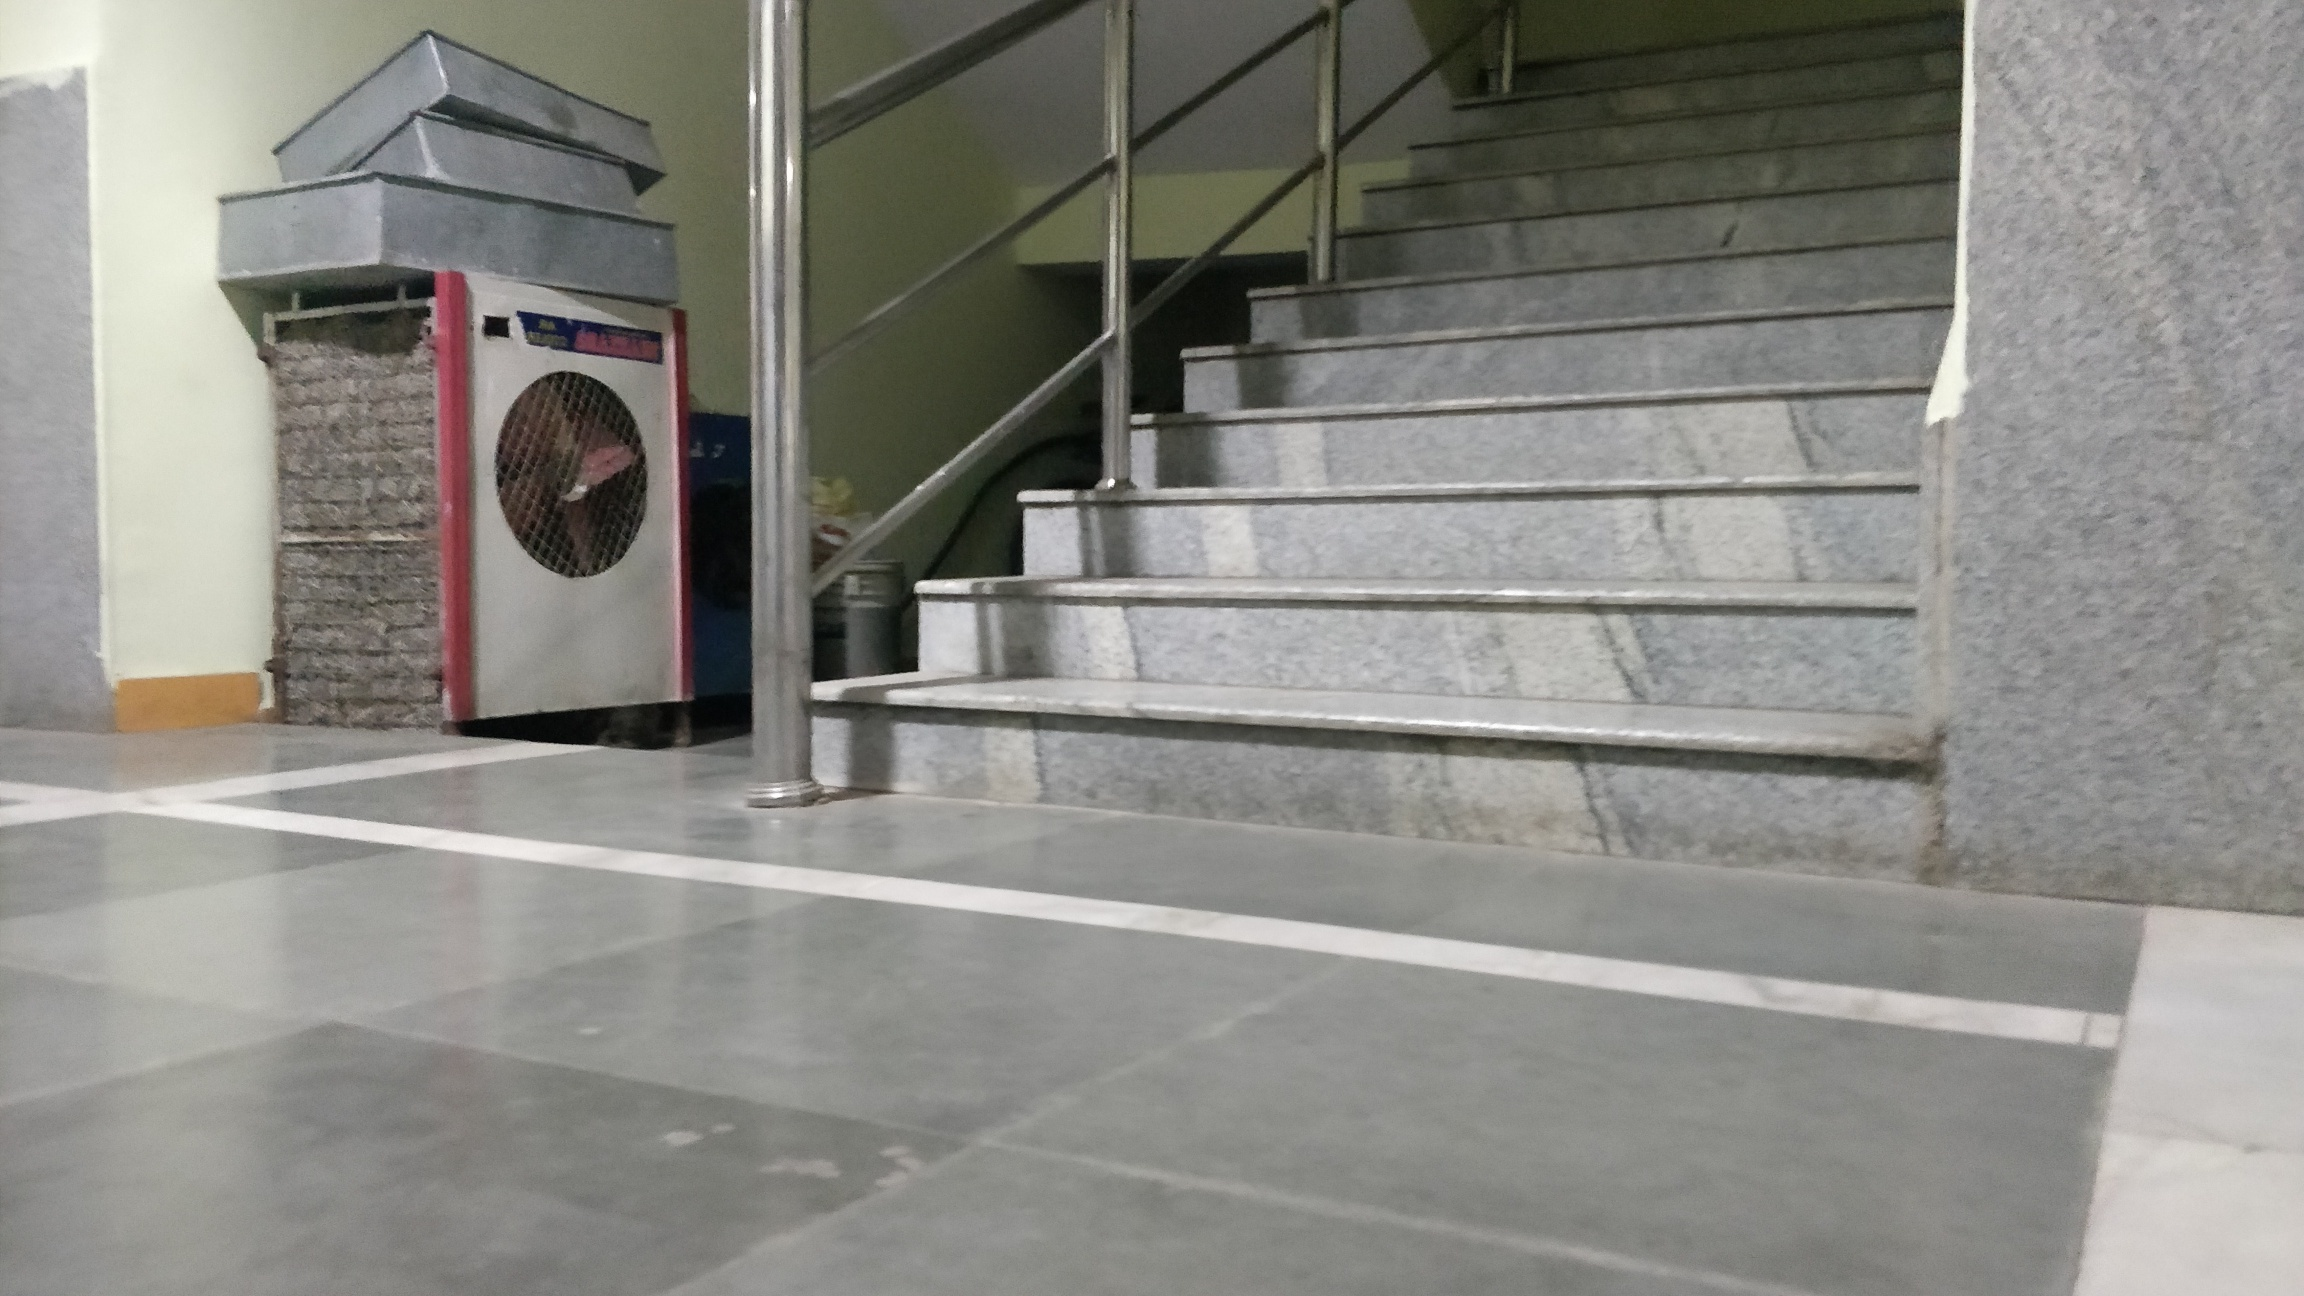stairs_up: (828, 21, 1948, 853)
